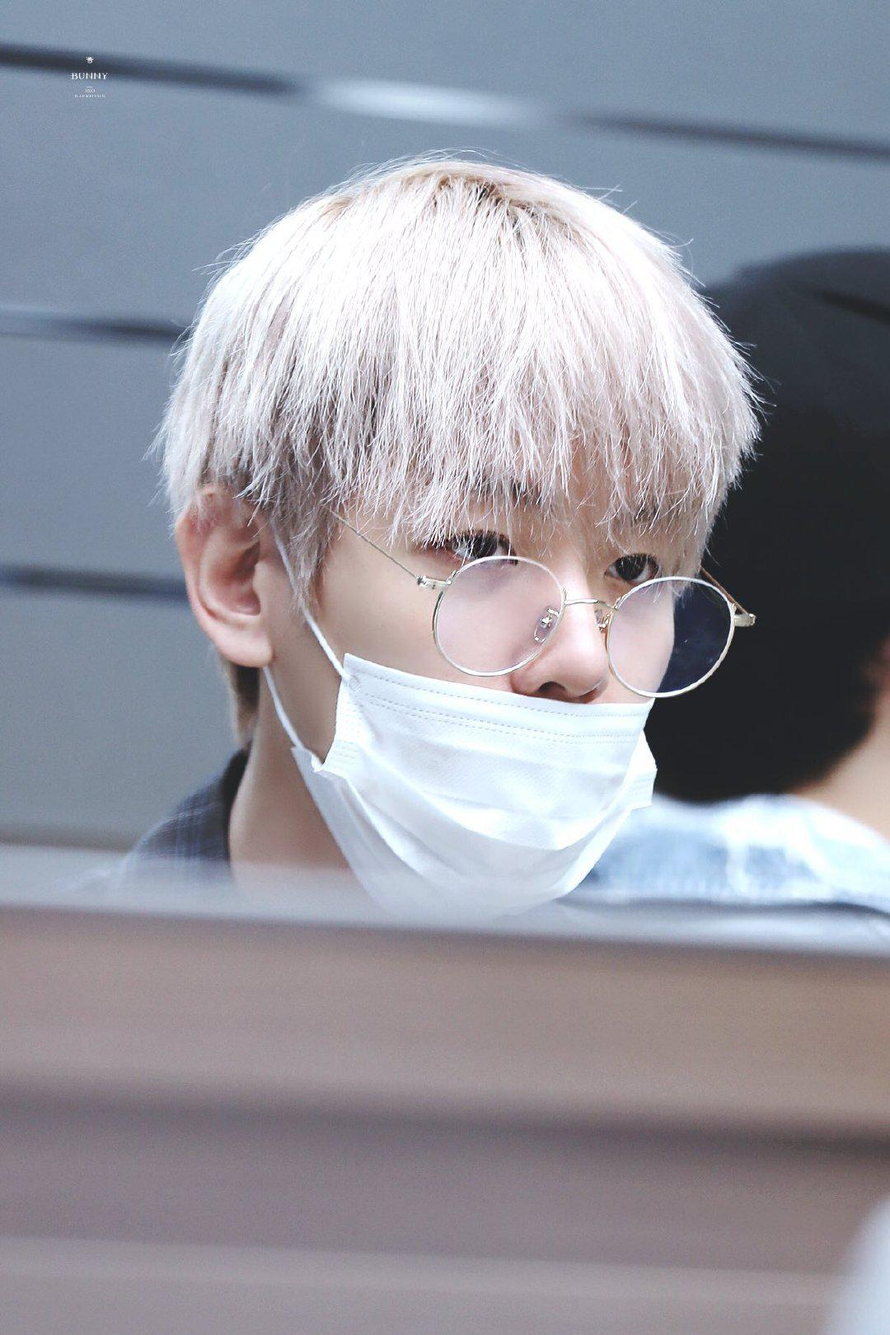WRONG: (289, 414, 691, 908)
